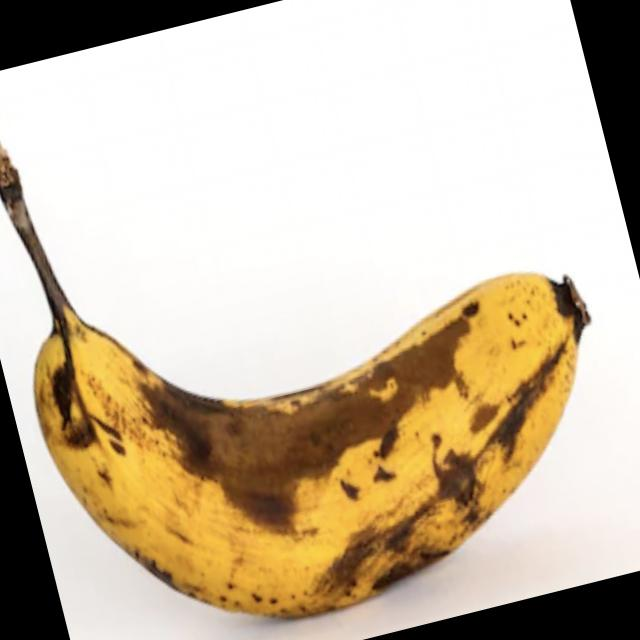rotten-banana: (9, 161, 640, 640)
